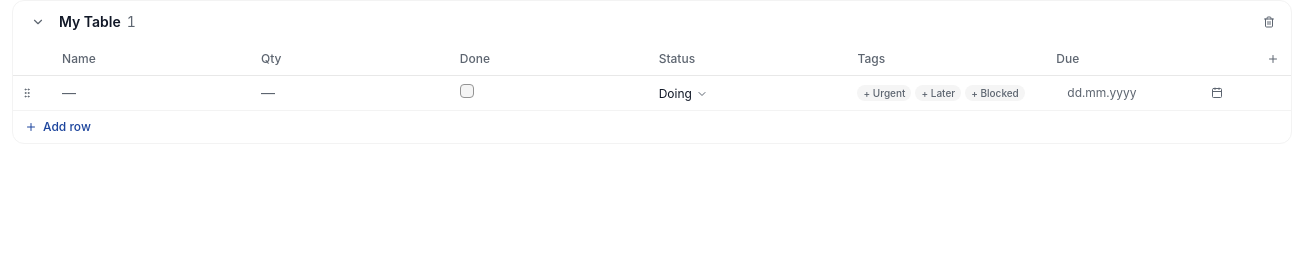
Test: NamedTable select cell › renders an empty placeholder option plus each column option, selected from the row value
This screenshot has width=1304, height=258.
Click the dropdown. click: x=683, y=94
box: [659,86,708,102]
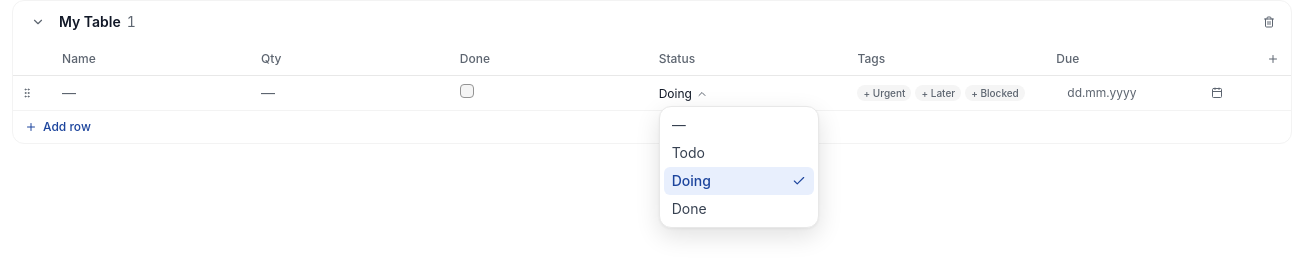
expect the options read "—", "Todo", "Doing", "Done", in this order: met, box [672,116,686,132]; [672,144,705,160]; [664,166,814,194]; [672,200,706,216]
